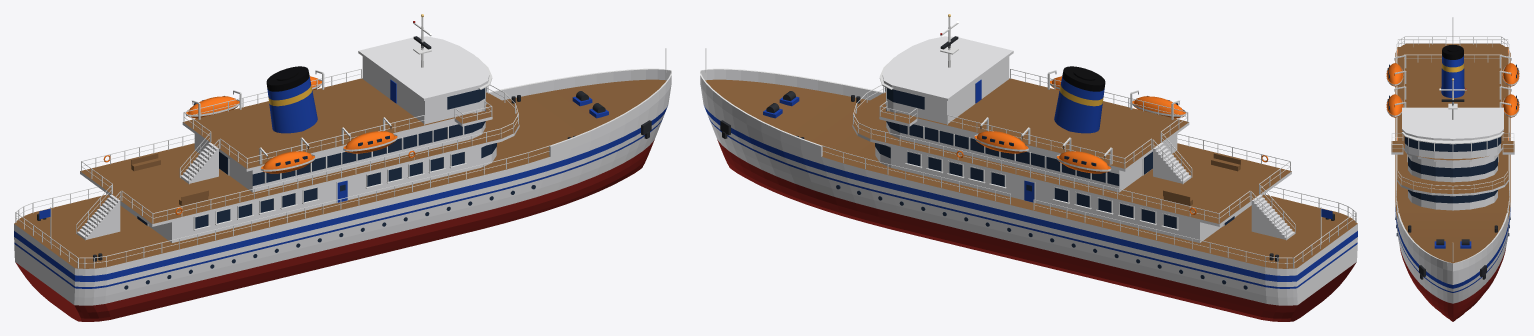
File: SM_Harbor_Ferry.fbx
3 renders of one model, left to right at view 1: azimuth 30°, elevation 25°; view 2: azimuth 150°, elevation 25°; view 3: azimuth 270°, elevation 25°, orthographic. The views are drawn at different scales.
Parts seen in each view (by area): view 1: SM_Harbor_Ferry; view 2: SM_Harbor_Ferry; view 3: SM_Harbor_Ferry.
Boxes of the visible parts, x1,y1,x2,y2 form: SM_Harbor_Ferry: (14,14,671,321); SM_Harbor_Ferry: (700,14,1357,321); SM_Harbor_Ferry: (1386,17,1519,321).
Size of the model in its own units: 70.6 by 22.11 by 16.66.
